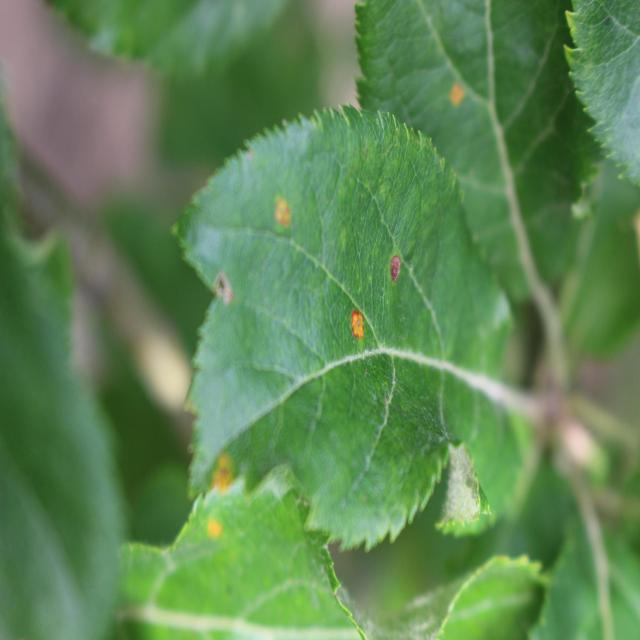Rust: (199, 458, 262, 506), (342, 298, 378, 364), (442, 60, 478, 124), (198, 504, 232, 569), (269, 188, 304, 238)
